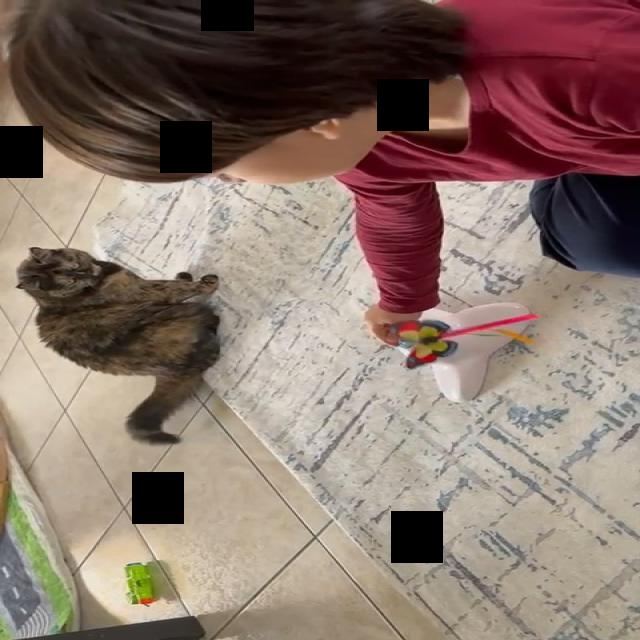authorized: (13, 246, 222, 444)
